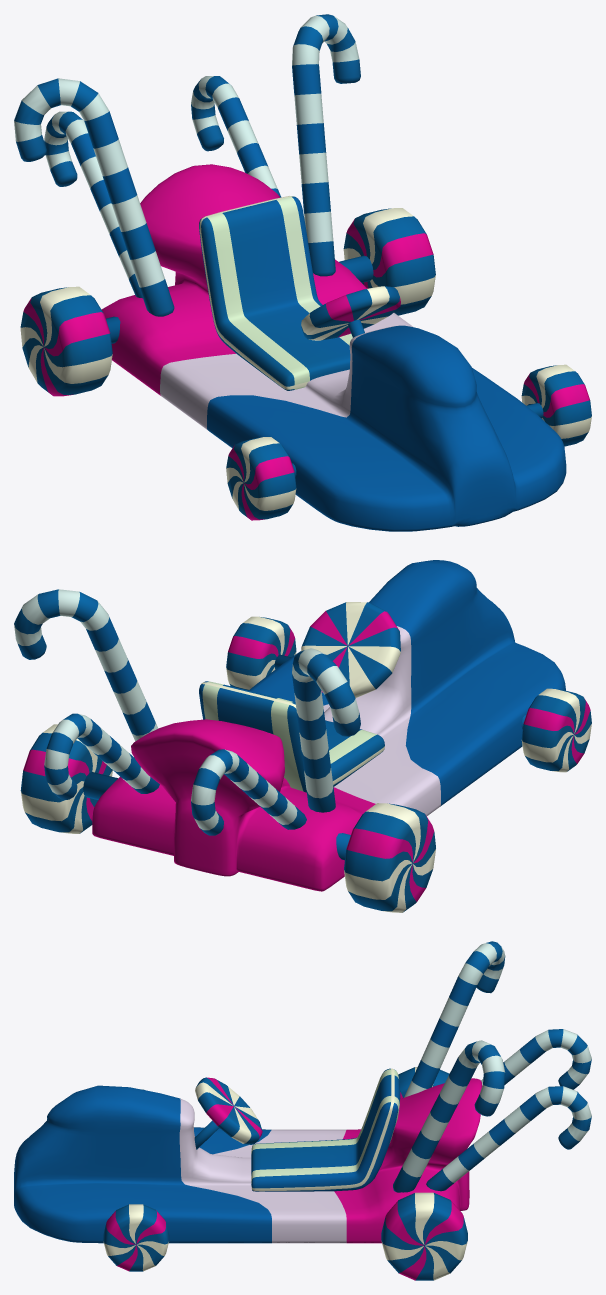
Rendered from cw_car1.fbx.
3 views of the same model, one above another, from view 1: azimuth 30°, elevation 25°; view 2: azimuth 150°, elevation 25°; view 3: azimuth 270°, elevation 25° (orthographic). The views are drawn at different scales.
Parts seen in each view (by area): view 1: cw_car1, w1.002, w1.003, w1.001, w1; view 2: cw_car1, w1.002, w1.003, w1.001, w1; view 3: cw_car1, w1.003, w1, w1.002.
Boxes of the visible parts, x1=… form: cw_car1: x1=14, y1=14, x2=566, y2=531; w1.002: x1=20, y1=286, x2=112, y2=396; w1.003: x1=343, y1=208, x2=435, y2=315; w1.001: x1=226, y1=437, x2=296, y2=520; w1: x1=521, y1=364, x2=591, y2=446; cw_car1: x1=14, y1=560, x2=565, y2=891; w1.002: x1=344, y1=803, x2=435, y2=912; w1.003: x1=20, y1=724, x2=112, y2=833; w1.001: x1=521, y1=688, x2=591, y2=772; w1: x1=226, y1=616, x2=296, y2=690; cw_car1: x1=14, y1=941, x2=591, y2=1243; w1.003: x1=381, y1=1192, x2=467, y2=1280; w1: x1=103, y1=1204, x2=169, y2=1271; w1.002: x1=398, y1=1067, x2=449, y2=1098.
Size of the model in its own units: 137 by 97.26 by 234.
